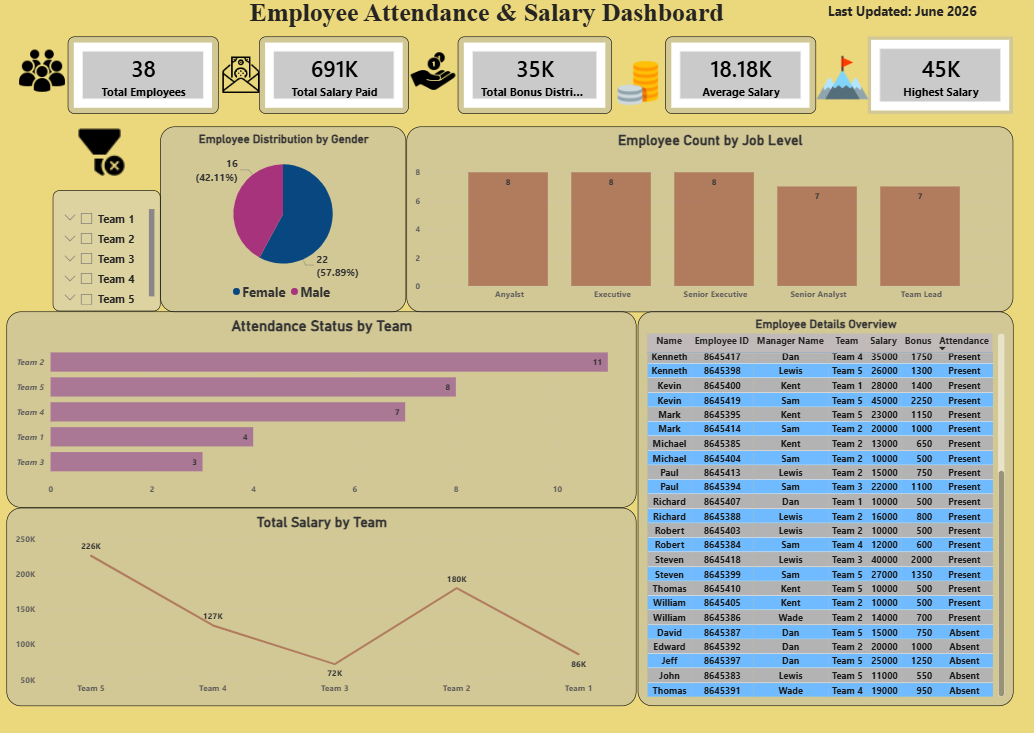

The page's visual inventory and layout, read from the dashboard file:
{"tool":"powerbi","page":{"name":"Page 1","canvas":[1500,1080],"ordinal":0},"visuals":[{"type":"pieChart","title":"Employee Distribution by Gender","fields":{"Y":["CountNonNull(Data.Employee ID)"],"Category":["Data.Gender"]},"box":[251,191,356,269],"z":0},{"type":"clusteredColumnChart","title":"Employee Count by Job Level","fields":{"Y":["CountNonNull(Data.Employee ID)"],"Category":["Data.Job Level"]},"box":[615,191,853,269],"z":1000},{"type":"barChart","title":"Attendance Status by Team","fields":{"Category":["Data.Team"],"Y":["Sum(Data.Attendance Status)"]},"box":[10,469,912,284],"z":2000},{"type":"lineChart","title":"Total Salary by Team","fields":{"Category":["Data.Team"],"Y":["Sum(Data.Salary)"]},"box":[10,762,912,278],"z":3000},{"type":"slicer","title":"sli","fields":{"Values":["Data.Team","Data.Job Level","Data.Gender","Data. Manager Name","Data.Month"]},"box":[81,191,156,175],"z":4000},{"type":"tableEx","title":"Employee Details Overview","fields":{"Values":["Data.Name","Data.Employee ID","Data. Manager Name","Data.Team","Data.Salary","Data.Bonus","Data.Attendance"]},"box":[933,469,544,571],"z":5000},{"type":"cardVisual","fields":{"Data":["CountNonNull(Data.Employee ID)"]},"box":[100,61,218,112],"z":6000},{"type":"cardVisual","fields":{"Data":["Sum(Data.Salary)"]},"box":[377,61,217,112],"z":7000},{"type":"cardVisual","fields":{"Data":["Sum(Data.Bonus)"]},"box":[664,61,223,112],"z":8000},{"type":"cardVisual","fields":{"Data":["Avg(Data.Salary)"]},"box":[965,61,218,112],"z":9000},{"type":"textbox","box":[178,0,1057,61],"z":10000},{"type":"cardVisual","fields":{"Data":["Max(Data.Salary)"]},"box":[1258,61,210,112],"z":11000},{"type":"textbox","box":[1138,8,339,53],"z":11001}]}

Visuals, with their boxes in screenshot pixels (x1, y1, x2, y2), scaled from the page's 1500x1080 canvas onto the 1034x733 screenshot:
"Employee Distribution by Gender" pieChart: (173, 130, 418, 312)
"Employee Count by Job Level" clusteredColumnChart: (424, 130, 1012, 312)
"Attendance Status by Team" barChart: (7, 318, 636, 511)
"Total Salary by Team" lineChart: (7, 517, 636, 706)
"sli" slicer: (56, 130, 163, 248)
"Employee Details Overview" tableEx: (643, 318, 1018, 706)
cardVisual - CountNonNull(Data.Employee ID): (69, 41, 219, 117)
cardVisual - Sum(Data.Salary): (260, 41, 409, 117)
cardVisual - Sum(Data.Bonus): (458, 41, 611, 117)
cardVisual - Avg(Data.Salary): (665, 41, 815, 117)
textbox: (123, 0, 851, 41)
cardVisual - Max(Data.Salary): (867, 41, 1012, 117)
textbox: (784, 5, 1018, 41)
